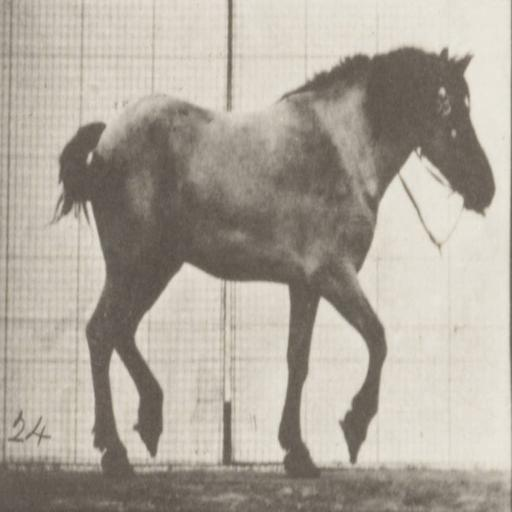horse: (50, 45, 498, 475)
